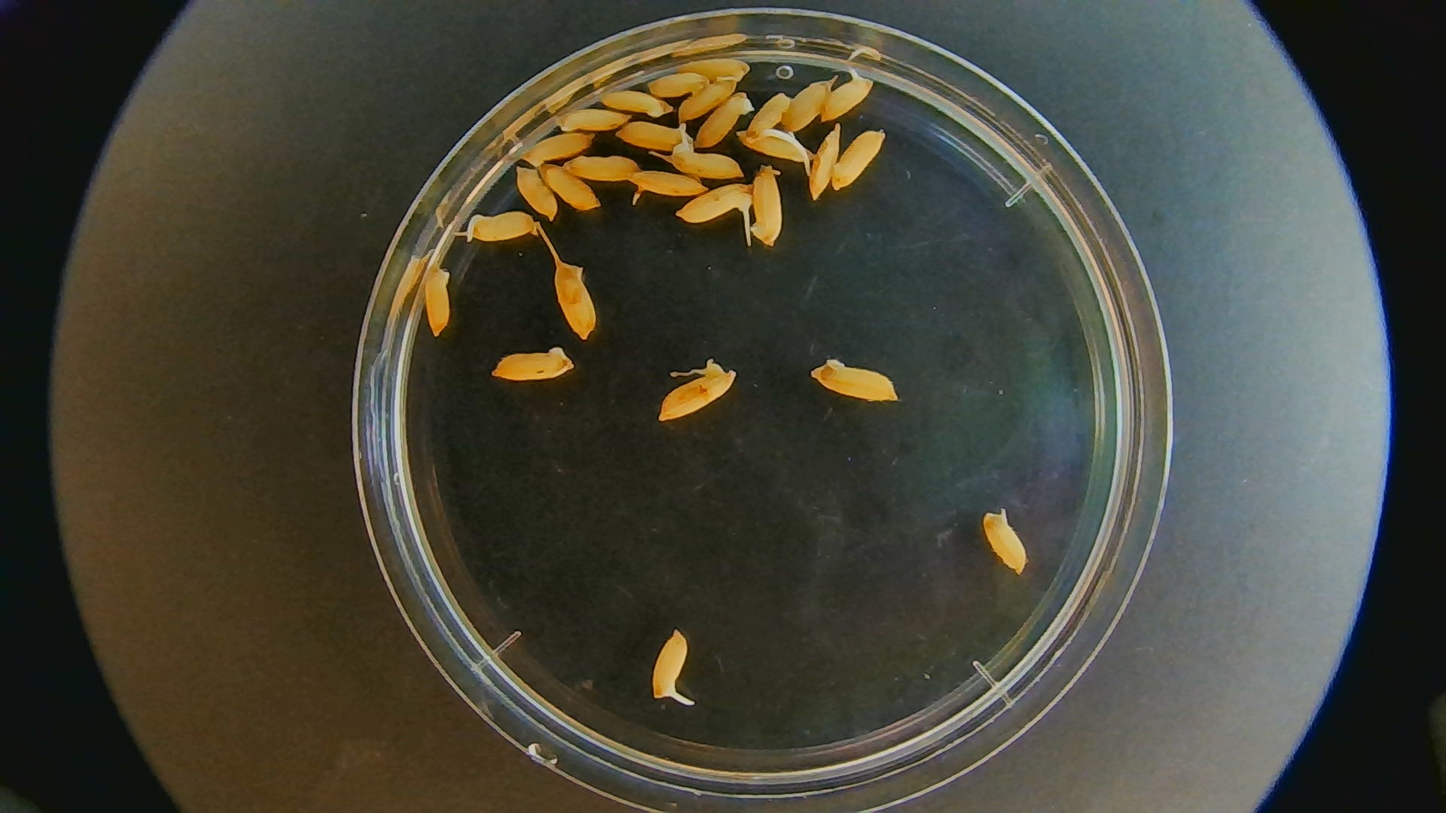no: (651, 357, 738, 425), (810, 360, 901, 410), (549, 260, 602, 345), (972, 509, 1035, 577), (490, 341, 573, 385), (831, 126, 884, 194), (536, 160, 599, 213), (697, 93, 755, 149), (419, 263, 462, 337), (598, 83, 677, 123), (750, 166, 787, 246), (518, 130, 596, 167), (809, 120, 844, 202), (784, 76, 834, 132), (513, 164, 560, 221), (615, 117, 693, 151), (677, 76, 736, 120), (564, 153, 644, 185), (744, 93, 792, 146), (542, 106, 632, 133), (667, 59, 750, 85), (643, 71, 711, 100)
yes: (625, 167, 706, 209), (679, 181, 756, 223), (740, 123, 816, 165), (650, 633, 690, 701), (467, 209, 538, 246), (669, 146, 746, 178), (823, 72, 870, 124)
